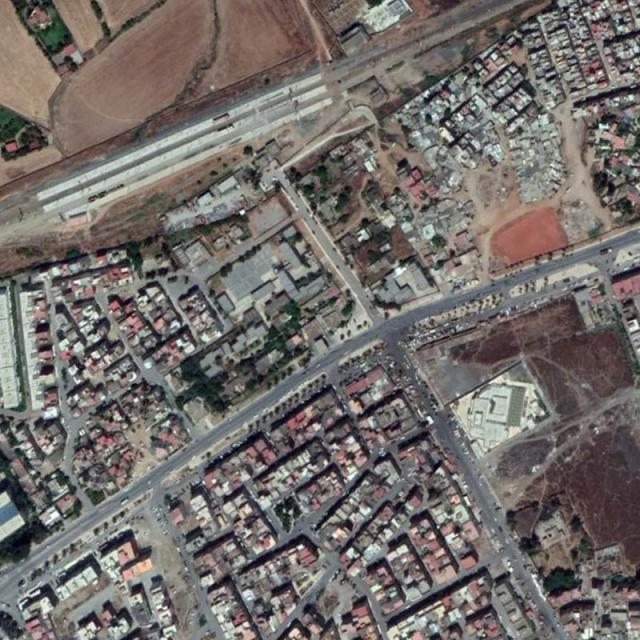vehicle: (600, 247, 612, 256), (120, 498, 130, 506)
